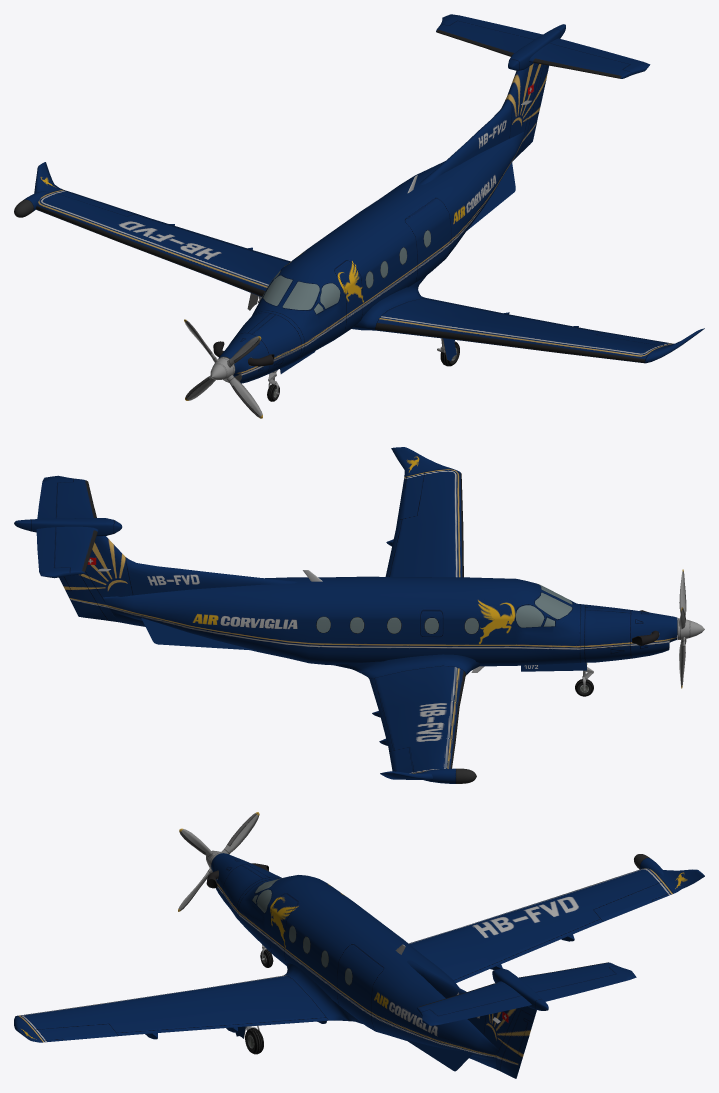
File: pilatus_pc12.glb
3 renders of one model, top to bottom at view 1: azimuth 30°, elevation 25°; view 2: azimuth 150°, elevation 25°; view 3: azimuth 270°, elevation 25°, orthographic.
Visible parts, largest first — view 1: Cylinder01-FACES (×2), Line45-FACES, Line60-FACES, Cylinder02-FACES, Cylinder03-FACES, Cylinder76-FACES, Box01-FACES, Line01-FACES; view 2: Cylinder01-FACES (×2), Line60-FACES, Line45-FACES, Cylinder02-FACES, Cylinder76-FACES, Cylinder03-FACES, Line47-FACES, Box01-FACES, Cylinder04-FACES; view 3: Cylinder01-FACES, Line45-FACES, Line60-FACES, Cylinder02-FACES, Cylinder03-FACES, Cylinder76-FACES, Box01-FACES, Line01-FACES, Line50-FACES.
Part boxes in pixels (<box>): Cylinder01-FACES (×2): <box>218,131,524,383</box>; Line45-FACES: <box>352,275,704,363</box>; Line60-FACES: <box>34,162,290,296</box>; Cylinder02-FACES: <box>419,63,548,184</box>; Cylinder03-FACES: <box>529,38,650,78</box>; Cylinder76-FACES: <box>436,14,542,56</box>; Box01-FACES: <box>508,24,565,70</box>; Line01-FACES: <box>467,162,515,230</box>; Cylinder01-FACES (×2): <box>103,576,677,666</box>; Line60-FACES: <box>334,654,480,779</box>; Line45-FACES: <box>385,447,463,577</box>; Cylinder02-FACES: <box>59,536,297,621</box>; Cylinder76-FACES: <box>36,526,98,578</box>; Cylinder03-FACES: <box>37,475,96,518</box>; Line47-FACES: <box>141,618,255,650</box>; Box01-FACES: <box>14,518,122,536</box>; Cylinder04-FACES: <box>421,768,476,783</box>; Cylinder01-FACES: <box>211,853,498,1068</box>; Line45-FACES: <box>14,963,362,1042</box>; Line60-FACES: <box>409,868,704,982</box>; Cylinder02-FACES: <box>407,960,536,1078</box>; Cylinder03-FACES: <box>417,981,531,1025</box>; Cylinder76-FACES: <box>519,962,636,1001</box>; Box01-FACES: <box>492,968,548,1010</box>; Line01-FACES: <box>405,1039,473,1071</box>; Line50-FACES: <box>221,812,259,854</box>.
Size of the model in its own units: 13.26 by 4 by 14.19.
64 materials, 52 textured.
